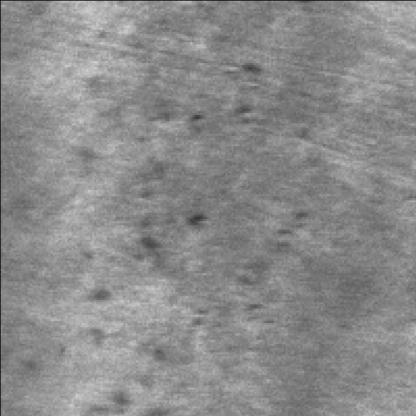rolled-in_scale: (127, 64, 264, 300)
